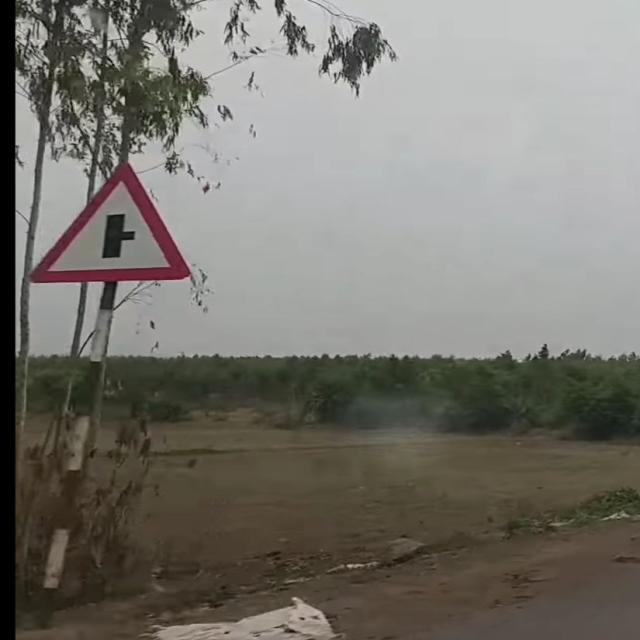Sideroad_toright: (27, 166, 186, 285)
